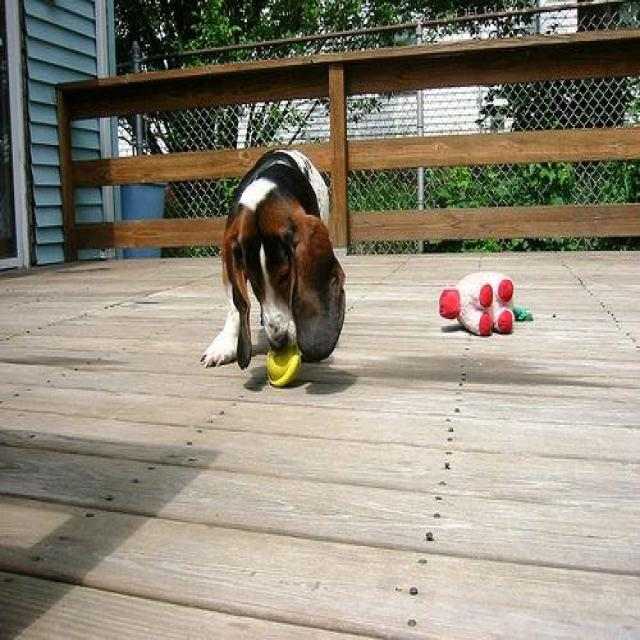basset: (201, 150, 348, 370)
